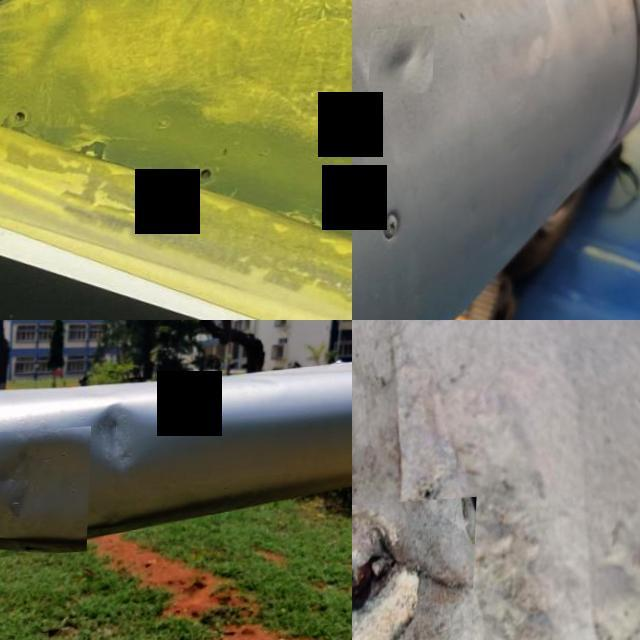Crack: (352, 502, 478, 640)
Dent: (0, 430, 93, 561), (74, 391, 166, 494), (371, 31, 436, 102)
Missing_Fastener: (202, 172, 216, 185), (16, 114, 28, 125)
